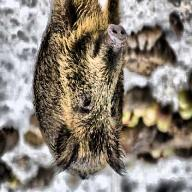boar: (32, 0, 130, 186)
